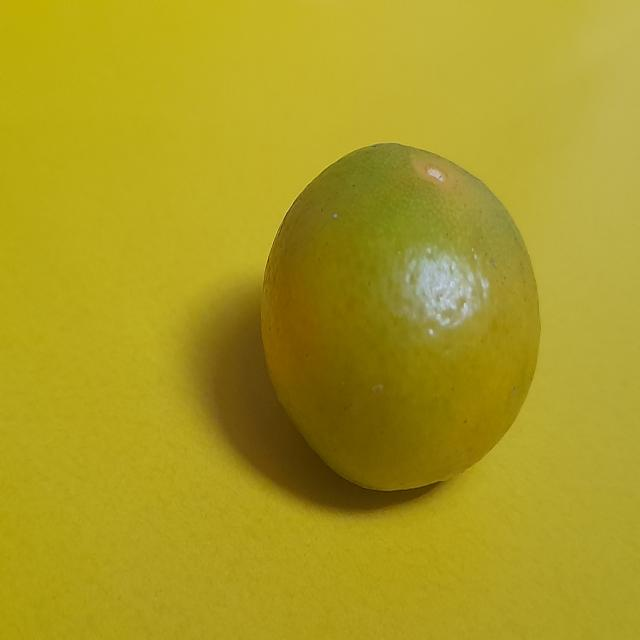greening: (259, 132, 528, 493)
